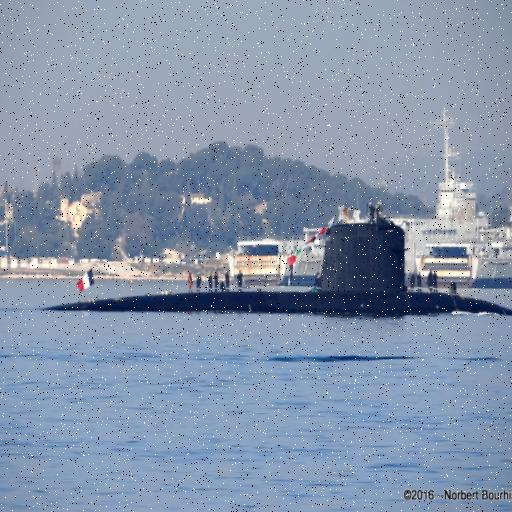submarine: (1, 224, 512, 309)
